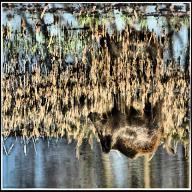boar: (80, 87, 192, 160)
